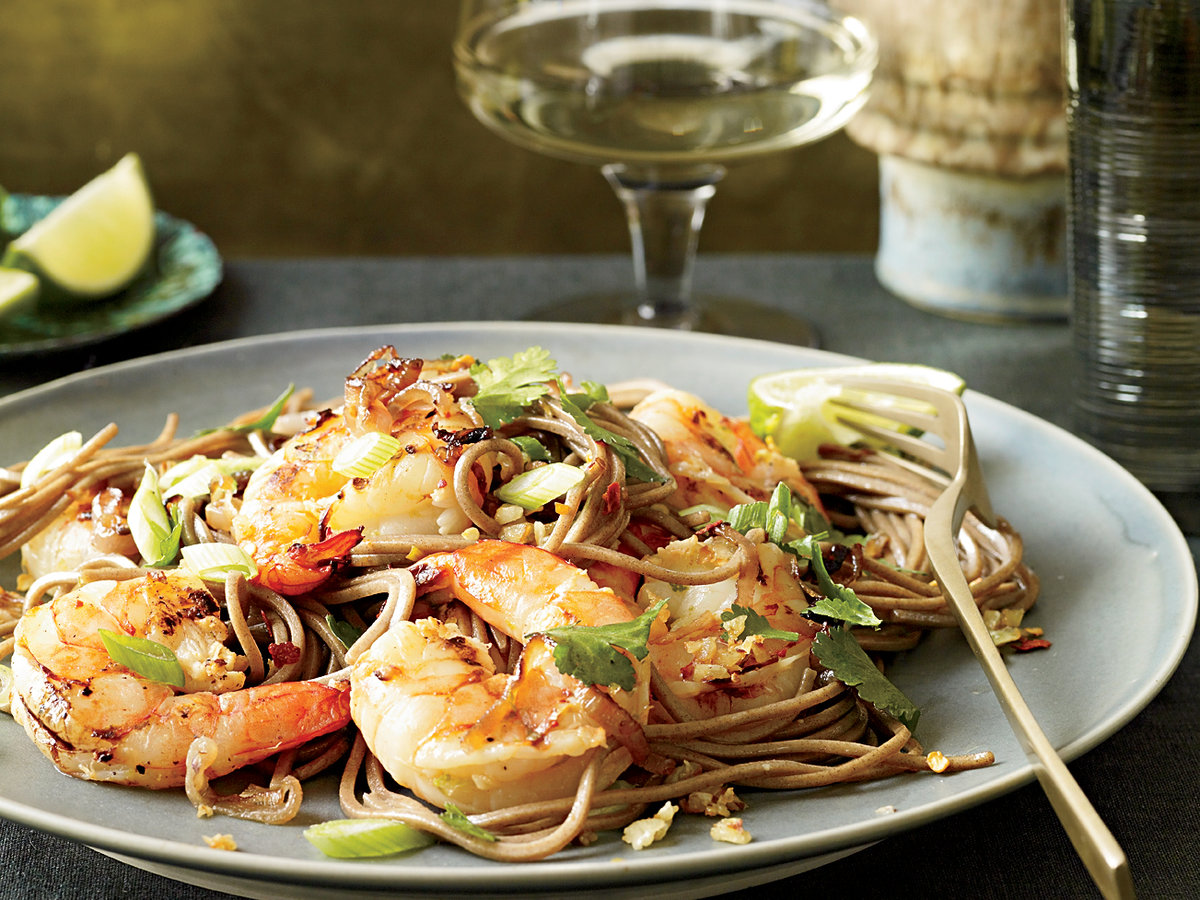Soba: (16, 364, 1015, 801)
